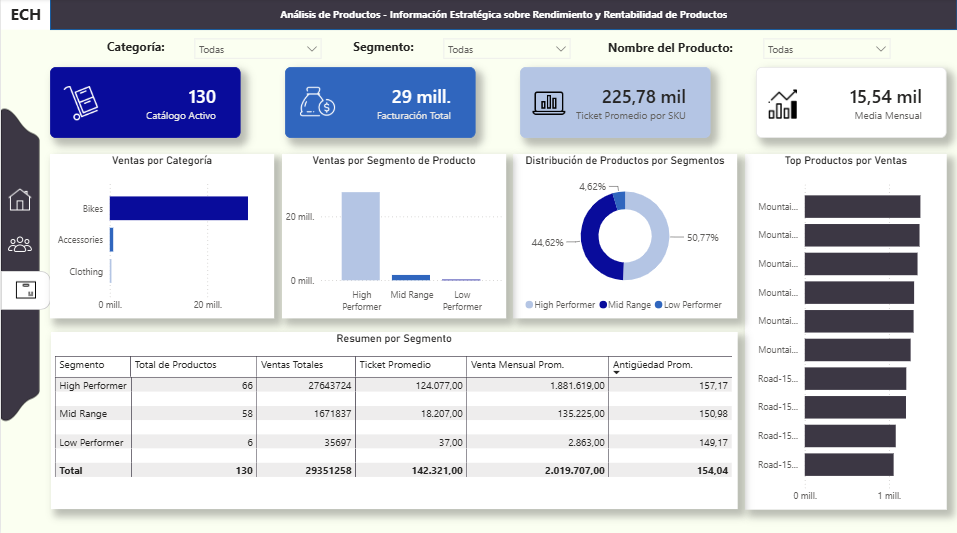

What the dashboard file says about the page in this screenshot:
{"tool":"powerbi","page":{"name":"Resumen_ejecutivo","canvas":[1280,720],"ordinal":1},"visuals":[{"type":"image","box":[0,3.8,175,60],"z":0},{"type":"group","id":"g1","title":"Grupo 1","box":[0,181.7,185,61.7],"z":1000},{"type":"shape","box":[0,181.7,185,61.7],"z":1000,"group":"g1"},{"type":"group","id":"g2","title":"Grupo 2","box":[0,264.3,185,61],"z":2000},{"type":"shape","box":[0,264.3,185,61],"z":2000,"group":"g2"},{"type":"shape","box":[6.9,184.6,55.4,55.4],"z":3000,"group":"g1"},{"type":"group","id":"g3","title":"Grupo 3","box":[0,346.3,185,61.7],"z":3000},{"type":"textbox","box":[62.4,267.8,112.9,53.5],"z":4000,"group":"g2"},{"type":"group","id":"g4","title":"Grupo 4","box":[0,428.9,185,61.7],"z":4000},{"type":"shape","box":[0,346.3,185,61.7],"z":5000,"group":"g3"},{"type":"group","id":"g5","title":"Grupo 5","box":[0,511.5,185,61.7],"z":5000},{"type":"cardVisual","fields":{"Data":["Med_Ventas.Ventas_totales"]},"box":[199.5,52.6,189.8,98.4],"z":6000},{"type":"shape","box":[0,428.9,185,61.7],"z":6000,"group":"g4"},{"type":"cardVisual","fields":{"Data":["Med_Ventas.Unidades_vendidas"]},"box":[419.3,52.6,189,98.4],"z":7000},{"type":"shape","box":[6.9,267.4,55.4,55.4],"z":7000,"group":"g2"},{"type":"cardVisual","fields":{"Data":["Med_Ventas.Utilidad_bruta"]},"box":[638.3,52.6,189,98.4],"z":8000},{"type":"shape","box":[6.9,349.2,55.4,55.4],"z":8000,"group":"g3"},{"type":"cardVisual","fields":{"Data":["Med_Ventas.%_Margen_bruto"]},"box":[857.3,52.6,189,98.4],"z":9000},{"type":"textbox","box":[62,439.9,119,39],"z":9000,"group":"g4"},{"type":"cardVisual","fields":{"Data":["Med_Inventario.Valor_inventario"]},"box":[1076.4,52.6,189,98.4],"z":10000},{"type":"shape","box":[6.9,432,55.4,55.4],"z":10000,"group":"g4"},{"type":"lineChart","fields":{"Y":["Med_Ventas.Ventas_totales"],"Category":["Dim_Calendario.Año Mes"]},"box":[200,164.3,742.9,275.7],"z":11000},{"type":"textbox","box":[78.7,194.7,78.7,41.3],"z":11000,"group":"g1"},{"type":"barChart","fields":{"Category":["Dim_Productos.Tipo (Producto / Servicio)"],"Y":["Med_Ventas.Ventas_totales"]},"box":[200,460,742.9,238.6],"z":12000},{"type":"shape","box":[0,511.5,185,61.7],"z":12000,"group":"g5"},{"type":"image","box":[14,277.3,42,36],"z":12001,"group":"g2"},{"type":"barChart","fields":{"Category":["Dim_Productos.NombreProducto"],"Y":["Med_Ventas.Unidades_vendidas"]},"box":[957.2,164.8,307.5,533.3],"z":13000},{"type":"shape","box":[6.9,514.6,55.4,55.4],"z":13000,"group":"g5"},{"type":"image","box":[14,358.6,41,36],"z":14000,"group":"g3"},{"type":"image","box":[16,443.9,39,32],"z":15000,"group":"g4"},{"type":"image","box":[14,523,41,38],"z":16000,"group":"g5"},{"type":"textbox","box":[64,358.6,117,38],"z":17000,"group":"g3"},{"type":"textbox","box":[55,523,127,40],"z":18000,"group":"g5"},{"type":"image","box":[11.5,193.9,47.7,36.9],"z":19000,"group":"g1"}]}

Visuals, with their boxes on the page's 1280x720 design canvas (x1, y1, x2, y2). These are canvas units, not pixel positions in the 957x533 screenshot, which may show the page scaled, cropped or inside an application window:
image: box=[0, 4, 175, 64]
"Grupo 1" group: box=[0, 182, 185, 243]
shape: box=[0, 182, 185, 243]
"Grupo 2" group: box=[0, 264, 185, 325]
shape: box=[0, 264, 185, 325]
shape: box=[7, 185, 62, 240]
"Grupo 3" group: box=[0, 346, 185, 408]
textbox: box=[62, 268, 175, 321]
"Grupo 4" group: box=[0, 429, 185, 491]
shape: box=[0, 346, 185, 408]
"Grupo 5" group: box=[0, 512, 185, 573]
cardVisual - Med_Ventas.Ventas_totales: box=[200, 53, 389, 151]
shape: box=[0, 429, 185, 491]
cardVisual - Med_Ventas.Unidades_vendidas: box=[419, 53, 608, 151]
shape: box=[7, 267, 62, 323]
cardVisual - Med_Ventas.Utilidad_bruta: box=[638, 53, 827, 151]
shape: box=[7, 349, 62, 405]
cardVisual - Med_Ventas.%_Margen_bruto: box=[857, 53, 1046, 151]
textbox: box=[62, 440, 181, 479]
cardVisual - Med_Inventario.Valor_inventario: box=[1076, 53, 1265, 151]
shape: box=[7, 432, 62, 487]
lineChart - Med_Ventas.Ventas_totales x Dim_Calendario.Año Mes: box=[200, 164, 943, 440]
textbox: box=[79, 195, 157, 236]
barChart - Dim_Productos.Tipo (Producto / Servicio) x Med_Ventas.Ventas_totales: box=[200, 460, 943, 699]
shape: box=[0, 512, 185, 573]
image: box=[14, 277, 56, 313]
barChart - Dim_Productos.NombreProducto x Med_Ventas.Unidades_vendidas: box=[957, 165, 1265, 698]
shape: box=[7, 515, 62, 570]
image: box=[14, 359, 55, 395]
image: box=[16, 444, 55, 476]
image: box=[14, 523, 55, 561]
textbox: box=[64, 359, 181, 397]
textbox: box=[55, 523, 182, 563]
image: box=[12, 194, 59, 231]
